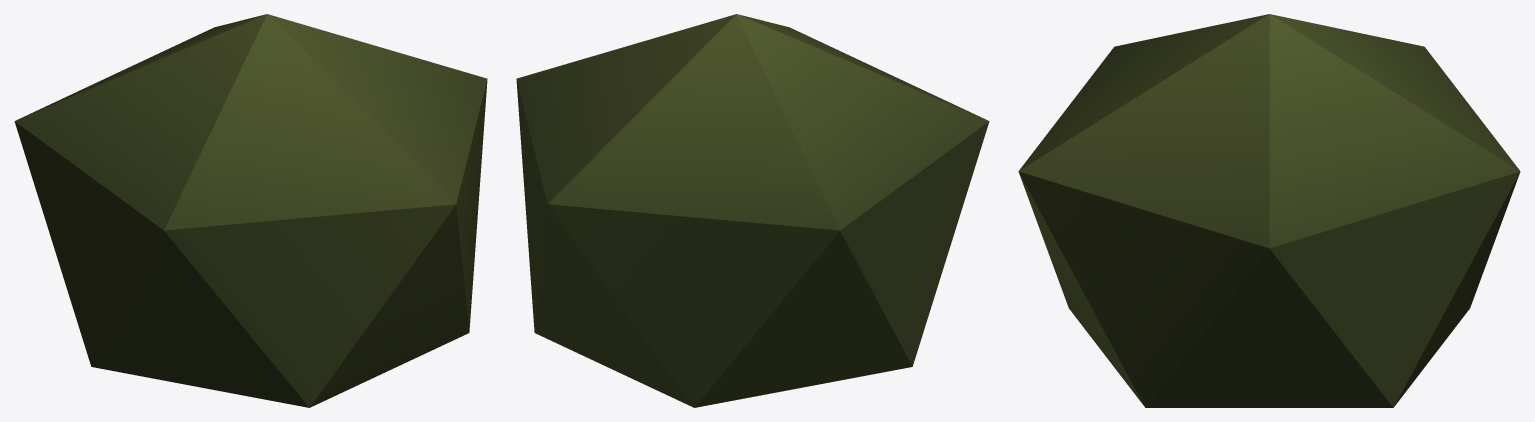
File: GEO_Bush_000.glb
3 renders of one model, left to right at view 1: azimuth 30°, elevation 25°; view 2: azimuth 150°, elevation 25°; view 3: azimuth 270°, elevation 25°, orthographic. The views are drawn at different scales.
Parts seen in each view (by area): view 1: GEO.Bush.000; view 2: GEO.Bush.000; view 3: GEO.Bush.000.
Boxes of the visible parts, <box> form: GEO.Bush.000: <box>14,14,487,407</box>; GEO.Bush.000: <box>516,14,989,407</box>; GEO.Bush.000: <box>1018,14,1520,407</box>.
Bounding box in the file's own units: 0.6049 × 0.4498 × 0.636.
